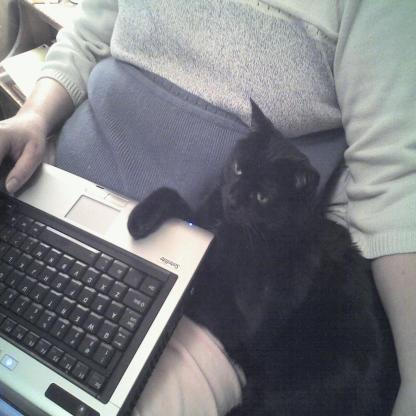board: (0, 161, 216, 416)
